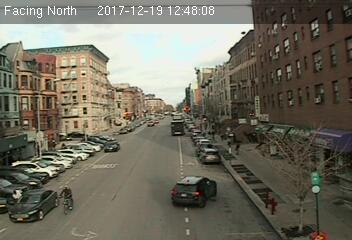bicycle: (58, 184, 76, 215)
car: (7, 187, 59, 223), (172, 174, 216, 206), (198, 147, 220, 164)
ups: (171, 120, 184, 137)
